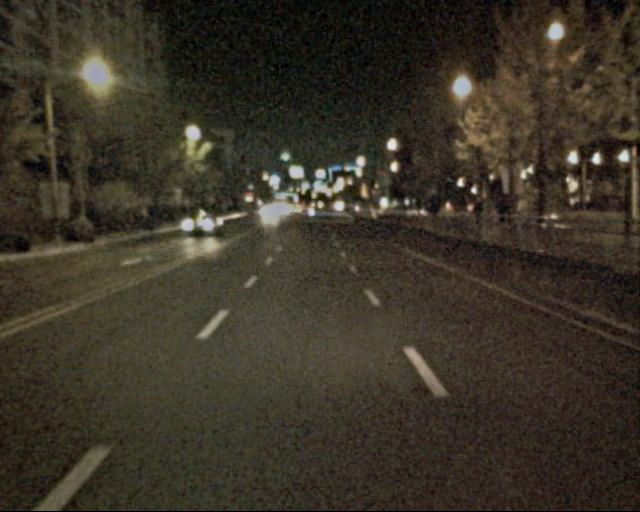person: (492, 193, 517, 245), (470, 193, 493, 239)
